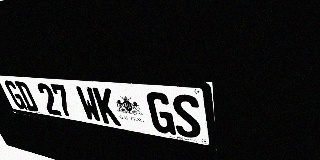2: (35, 83, 62, 116)
7: (49, 84, 76, 118)
D: (14, 81, 40, 112)
G: (145, 91, 176, 135), (3, 80, 28, 110)
K: (92, 87, 121, 126)
S: (171, 93, 202, 140)
W: (75, 86, 103, 123)
